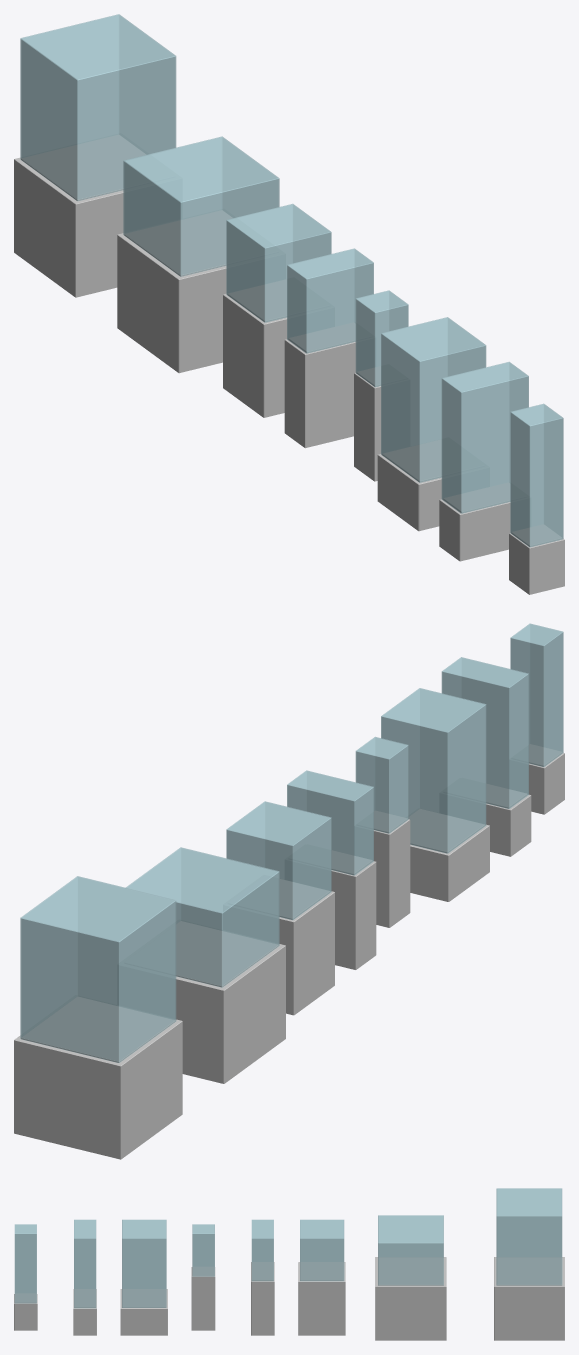
Rendered from stand.fbx.
The picture shows the model from 3 angles, top to bottom: view 1: azimuth 30°, elevation 25°; view 2: azimuth 150°, elevation 25°; view 3: azimuth 270°, elevation 25°; orthographic projection. The views are drawn at different scales.
Parts seen in each view (by area): view 1: stand_glass_8, stand_glass_7, stand_8, stand_7, stand_glass_3, stand_glass_2, stand_glass_6, stand_5, stand_6, stand_glass_1, stand_glass_5, stand_3 (+4 smaller); view 2: stand_glass_8, stand_8, stand_7, stand_glass_7, stand_glass_3, stand_glass_6, stand_glass_2, stand_6, stand_3, stand_glass_5, stand_glass_1, stand_5 (+4 smaller); view 3: stand_glass_8, stand_7, stand_8, stand_glass_7, stand_glass_3, stand_6, stand_glass_6, stand_3, stand_glass_2, stand_glass_1, stand_5, stand_4 (+4 smaller).
Boxes of the visible parts, left/top/right/bottom form: stand_glass_8: left=20, top=14, right=176, bottom=201; stand_glass_7: left=123, top=136, right=279, bottom=276; stand_8: left=14, top=135, right=145, bottom=297; stand_7: left=117, top=210, right=232, bottom=373; stand_glass_3: left=381, top=317, right=486, bottom=482; stand_glass_2: left=441, top=361, right=528, bottom=513; stand_glass_6: left=226, top=203, right=331, bottom=322; stand_5: left=284, top=322, right=355, bottom=448; stand_6: left=223, top=279, right=287, bottom=417; stand_glass_1: left=510, top=403, right=563, bottom=547; stand_glass_5: left=287, top=248, right=373, bottom=353; stand_3: left=377, top=439, right=441, bottom=531; stand_glass_8: left=20, top=876, right=176, bottom=1062; stand_8: left=14, top=996, right=182, bottom=1159; stand_7: left=175, top=921, right=285, bottom=1083; stand_glass_7: left=126, top=847, right=279, bottom=987; stand_glass_3: left=381, top=688, right=486, bottom=853; stand_glass_6: left=226, top=801, right=331, bottom=920; stand_glass_2: left=441, top=657, right=528, bottom=808; stand_6: left=279, top=879, right=334, bottom=1015; stand_3: left=409, top=809, right=489, bottom=901; stand_glass_5: left=287, top=770, right=373, bottom=875; stand_glass_1: left=510, top=623, right=563, bottom=767; stand_5: left=331, top=850, right=376, bottom=969; stand_glass_8: left=496, top=1188, right=562, bottom=1285; stand_7: left=375, top=1257, right=446, bottom=1340; stand_8: left=494, top=1257, right=564, bottom=1340; stand_glass_7: left=378, top=1215, right=443, bottom=1285; stand_glass_3: left=122, top=1219, right=166, bottom=1307; stand_6: left=298, top=1262, right=345, bottom=1335; stand_glass_6: left=300, top=1219, right=344, bottom=1281; stand_3: left=120, top=1289, right=167, bottom=1335; stand_glass_2: left=74, top=1219, right=96, bottom=1308; stand_glass_1: left=14, top=1224, right=36, bottom=1303; stand_5: left=251, top=1262, right=274, bottom=1335; stand_4: left=191, top=1267, right=215, bottom=1330.
Bounding box in the file's own units: 1.2 × 2.3 × 9.3.
